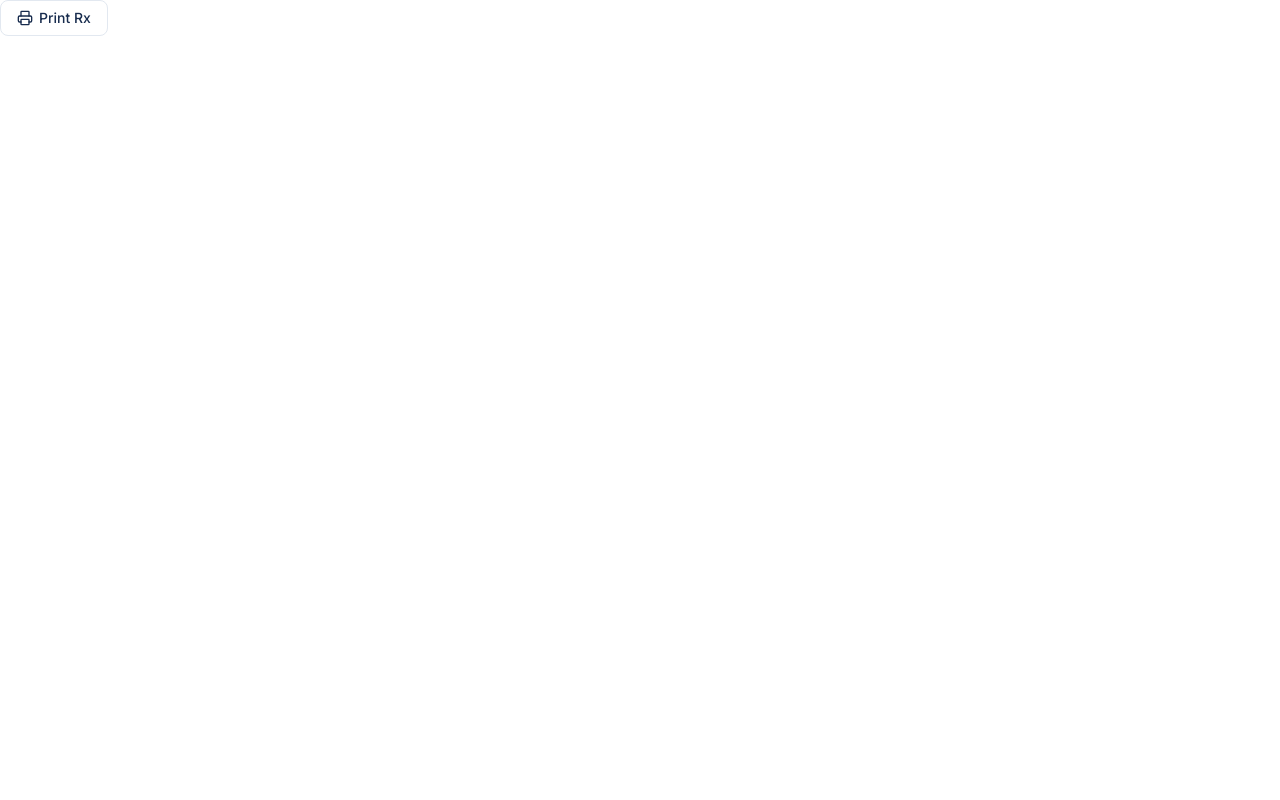
PrintRxButton › invokes window.print when the user clicks Print / Save as PDF
The width and height of the screenshot is (1280, 800).
Later steps or results of the test are not shown.
What coordinates should you click on to do the following:
click the button "Print Rx"
I would click on:
 (54, 18)
Its box is [0, 0, 108, 36].
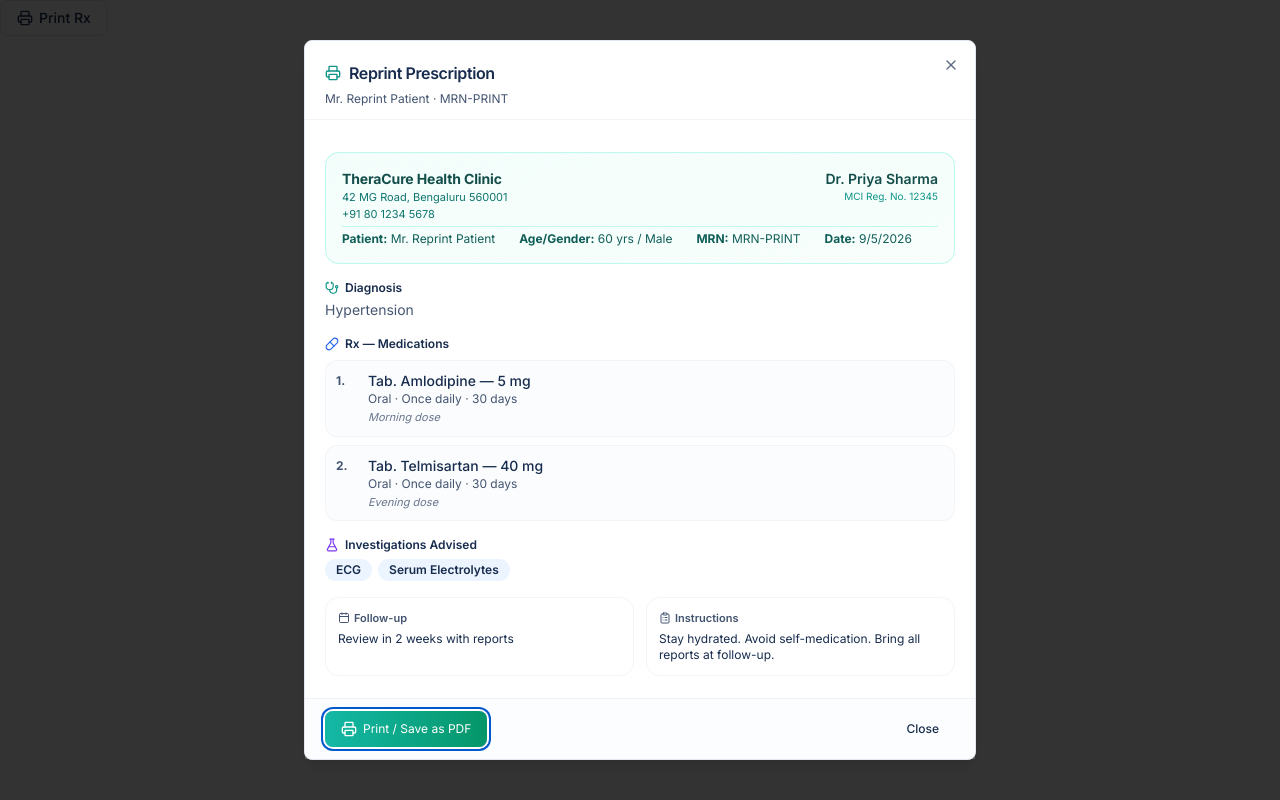
Check: the button "Print / Save as PDF" is shown, box [325, 711, 487, 747]
